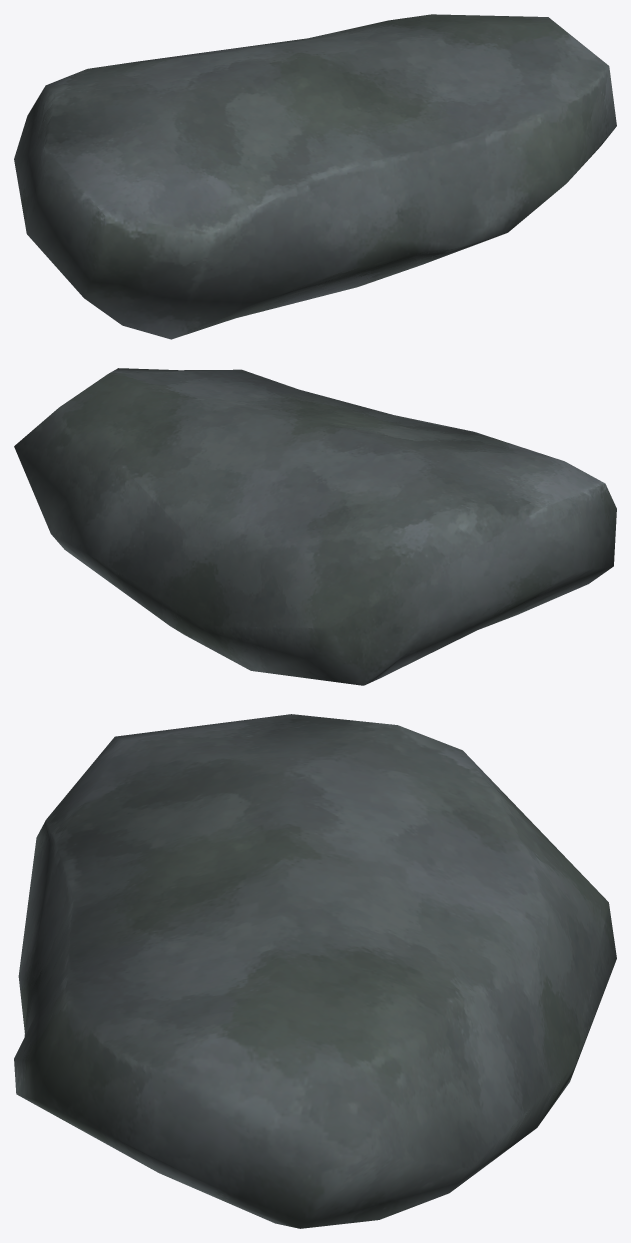
The model's file is rock_03.fbx.
3 renders of one model, top to bottom at view 1: azimuth 30°, elevation 25°; view 2: azimuth 150°, elevation 25°; view 3: azimuth 270°, elevation 25°, orthographic. The views are drawn at different scales.
Visible parts, largest first — view 1: rock_03; view 2: rock_03; view 3: rock_03.
Part boxes in pixels (box(x1,y1,x2,y2)): rock_03: box(14, 14, 616, 339); rock_03: box(14, 368, 616, 685); rock_03: box(14, 714, 616, 1228).
Size of the model in its own units: 237 by 79.92 by 151.
